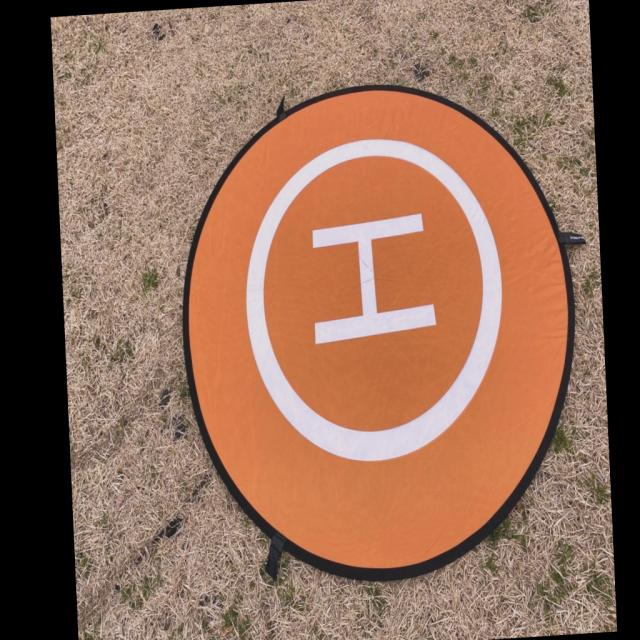helipad: (239, 132, 506, 468)
